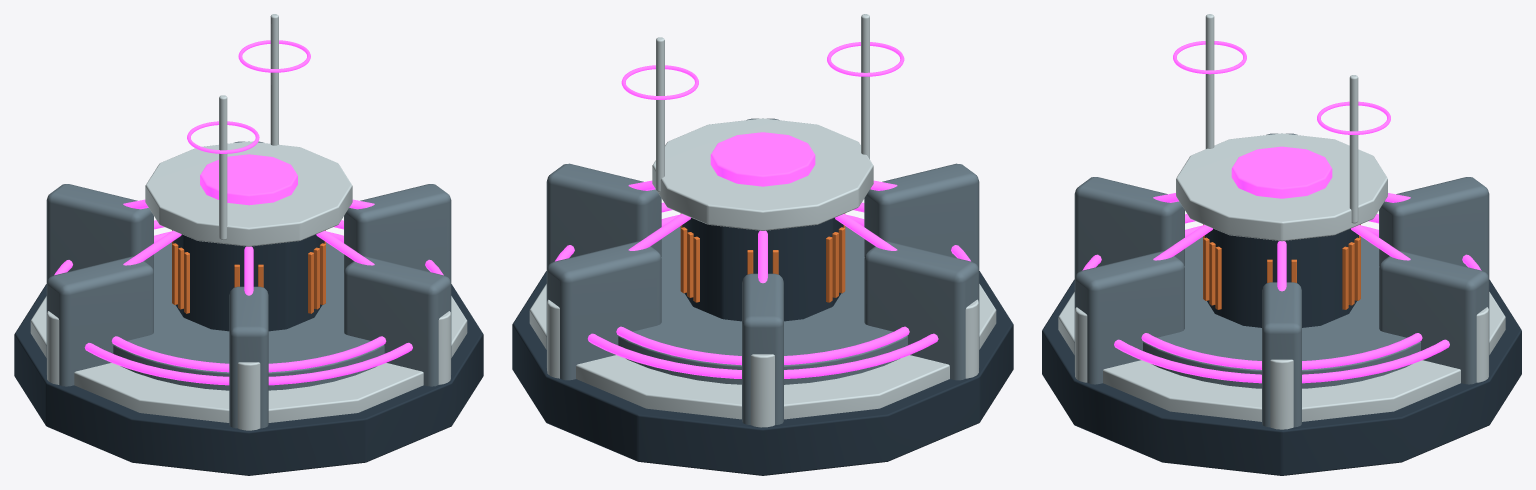
The model's file is StormRelay.fbx.
3 renders of one model, left to right at view 1: azimuth 30°, elevation 25°; view 2: azimuth 150°, elevation 25°; view 3: azimuth 270°, elevation 25°, orthographic. The views are drawn at different scales.
Parts seen in each view (by area): view 1: Relay foundation.001, Phase array crown.001, Armored base rim.001, Reactor well.001, Angled outer buttress.009, Angled outer buttress.011, Central housing.001, Angled outer buttress.006, Angled outer buttress.008, Angled outer buttress.010, Signal crystal.001, Induction coil.003 (+10 smaller); view 2: Relay foundation.001, Phase array crown.001, Armored base rim.001, Reactor well.001, Angled outer buttress.007, Angled outer buttress.009, Central housing.001, Angled outer buttress.010, Angled outer buttress.006, Signal crystal.001, Angled outer buttress.008, Induction coil.003 (+10 smaller); view 3: Relay foundation.001, Phase array crown.001, Armored base rim.001, Reactor well.001, Angled outer buttress.007, Angled outer buttress.011, Central housing.001, Angled outer buttress.008, Angled outer buttress.010, Signal crystal.001, Angled outer buttress.006, Induction coil.003 (+10 smaller).
Boxes of the visible parts, <box> form: Relay foundation.001: <box>14,284,483,475</box>; Phase array crown.001: <box>145,141,352,246</box>; Armored base rim.001: <box>30,296,467,422</box>; Reactor well.001: <box>113,242,384,390</box>; Angled outer buttress.009: <box>46,256,153,386</box>; Angled outer buttress.011: <box>344,256,451,386</box>; Central housing.001: <box>173,234,324,331</box>; Angled outer buttress.006: <box>344,184,451,282</box>; Angled outer buttress.008: <box>46,184,153,282</box>; Angled outer buttress.010: <box>229,286,268,428</box>; Signal crystal.001: <box>200,154,297,205</box>; Induction coil.003: <box>54,220,443,385</box>; Relay foundation.001: <box>512,271,1013,475</box>; Phase array crown.001: <box>652,118,873,230</box>; Armored base rim.001: <box>529,284,996,419</box>; Reactor well.001: <box>618,226,907,384</box>; Angled outer buttress.007: <box>546,241,661,380</box>; Angled outer buttress.009: <box>864,241,979,380</box>; Central housing.001: <box>682,218,843,321</box>; Angled outer buttress.010: <box>864,163,979,270</box>; Angled outer buttress.006: <box>546,163,661,270</box>; Signal crystal.001: <box>710,132,815,186</box>; Angled outer buttress.008: <box>742,273,783,424</box>; Induction coil.003: <box>555,202,970,378</box>; Relay foundation.001: <box>1042,279,1521,475</box>; Phase array crown.001: <box>1176,133,1387,241</box>; Armored base rim.001: <box>1058,292,1505,421</box>; Reactor well.001: <box>1143,237,1420,388</box>; Angled outer buttress.007: <box>1379,251,1489,384</box>; Angled outer buttress.011: <box>1074,251,1184,384</box>; Central housing.001: <box>1205,228,1358,327</box>; Angled outer buttress.008: <box>1379,177,1489,278</box>; Angled outer buttress.010: <box>1074,177,1184,278</box>; Signal crystal.001: <box>1231,146,1332,198</box>; Angled outer buttress.006: <box>1262,282,1301,427</box>; Induction coil.003: <box>1082,214,1481,383</box>.
Size of the model in its own units: 669 by 507 by 669.
